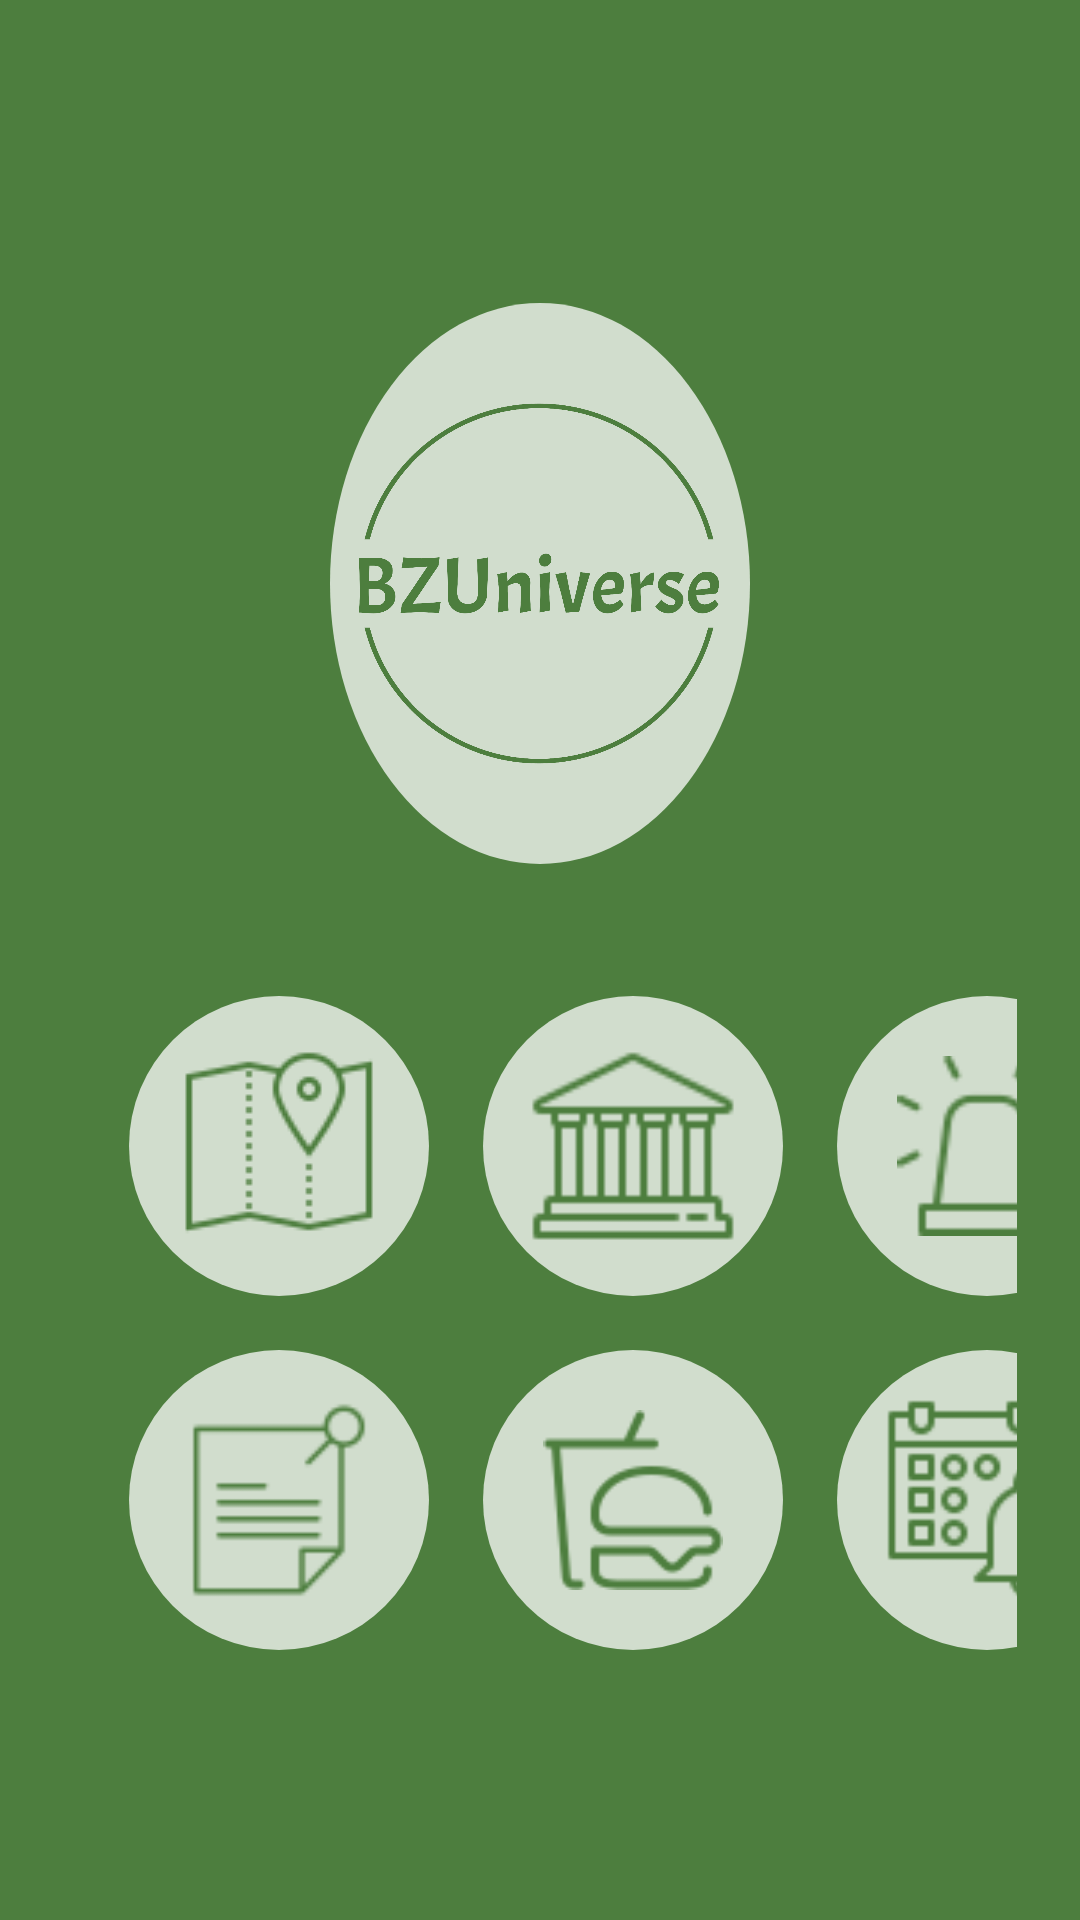

Screen size 1080×1920. Icon name, then its box in pixels as (x1, y1, x2, y2):
cafeteria: (483, 1350, 783, 1650)
mapp: (129, 996, 429, 1296)
note: (129, 1350, 429, 1650)
univ: (483, 996, 783, 1296)
